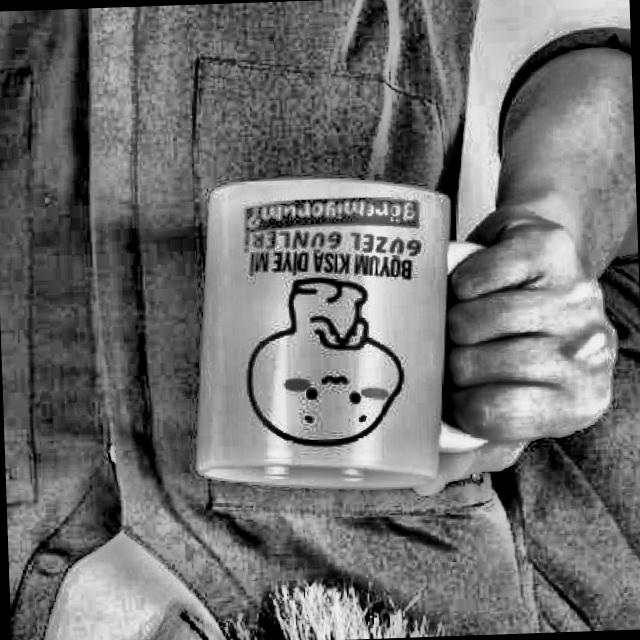Mug: (186, 172, 506, 494)
